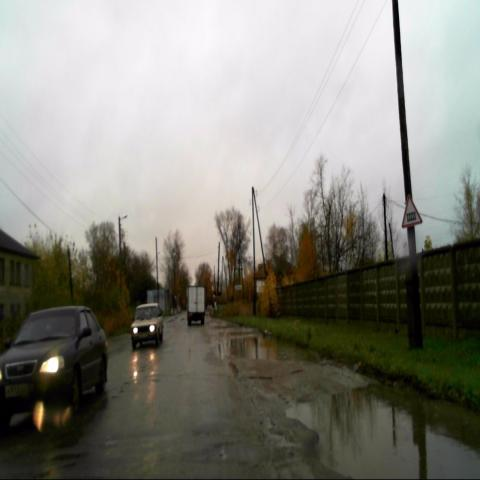1_1: (401, 194, 423, 229)
